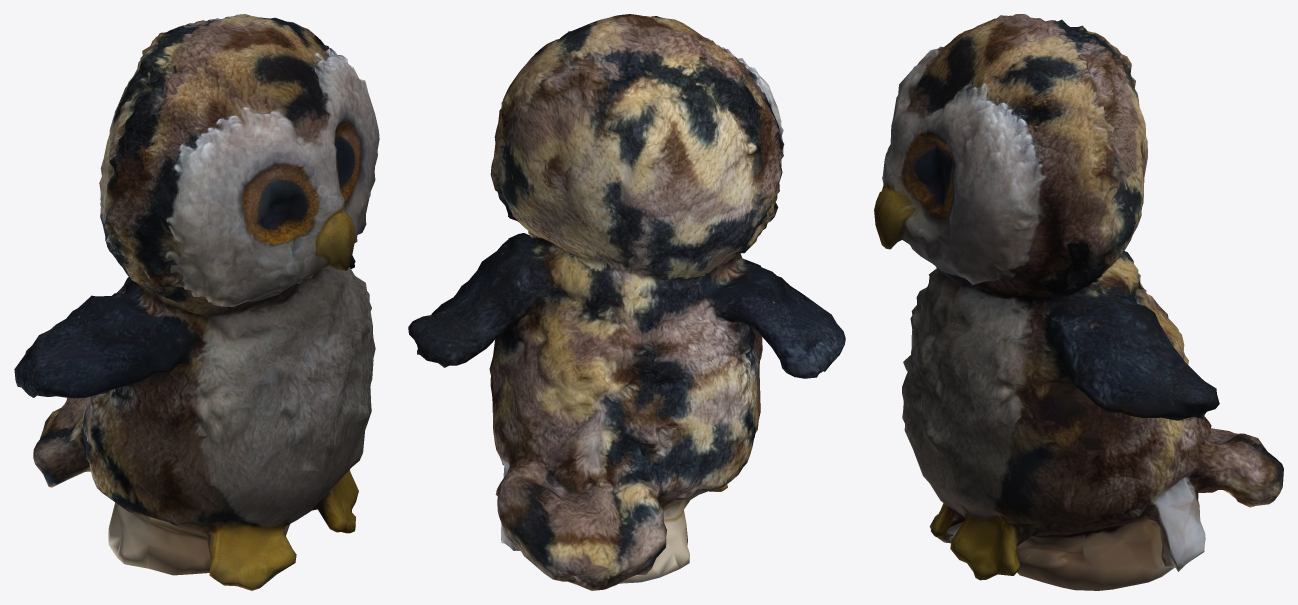
File: asset.glb
3 renders of one model, left to right at view 1: azimuth 30°, elevation 25°; view 2: azimuth 150°, elevation 25°; view 3: azimuth 270°, elevation 25°, orthographic. The views are drawn at different scales.
Visible parts, largest first — view 1: Mesh_0; view 2: Mesh_0; view 3: Mesh_0.
Part boxes in pixels (box(x1,y1,x2,y2)): Mesh_0: box(14, 14, 379, 590); Mesh_0: box(408, 14, 845, 590); Mesh_0: box(874, 14, 1283, 590).
Size of the model in its own units: 3.19 by 4.39 by 3.07.
1 material, 1 textured.
